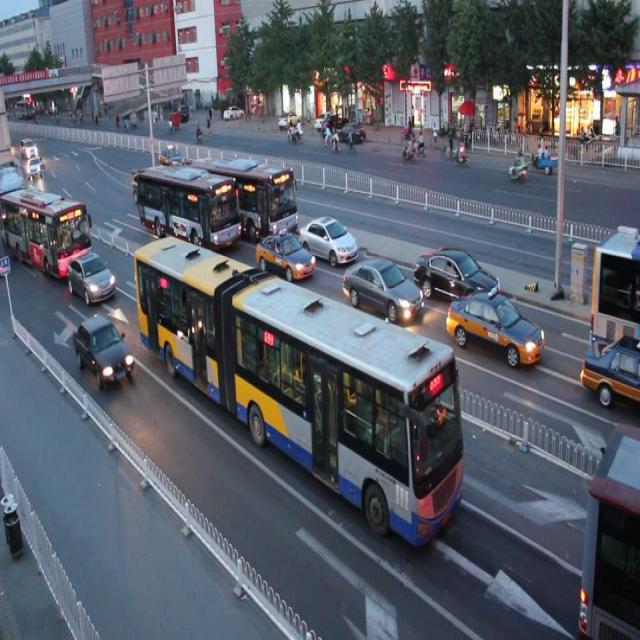car: (445, 289, 544, 369), (341, 256, 423, 321), (413, 243, 499, 303), (72, 313, 135, 390), (580, 337, 640, 407), (254, 230, 316, 283), (297, 217, 359, 267), (66, 249, 116, 303), (131, 173, 161, 202)
van: (132, 238, 464, 549), (582, 428, 640, 624), (135, 164, 242, 250), (194, 156, 297, 240), (0, 190, 90, 281), (590, 236, 640, 342)
